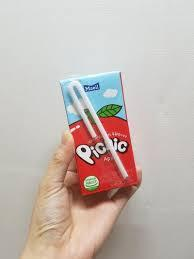picnic_apple: (58, 72, 141, 192)
